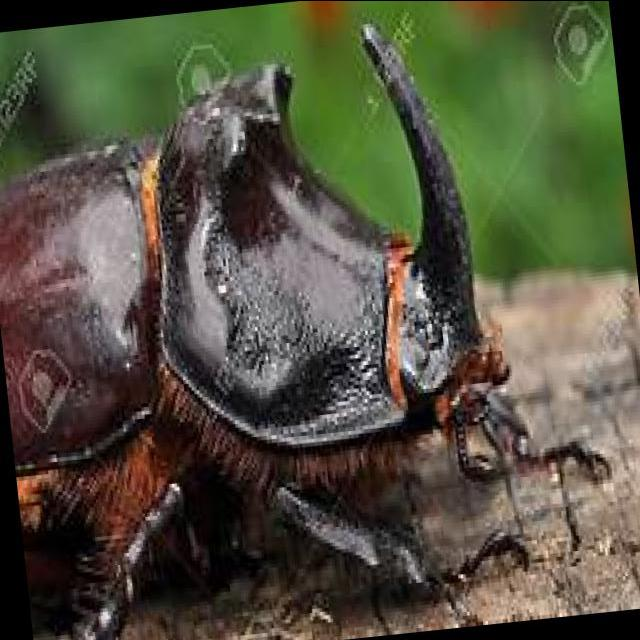Rhino-beetle: (3, 7, 523, 640)
